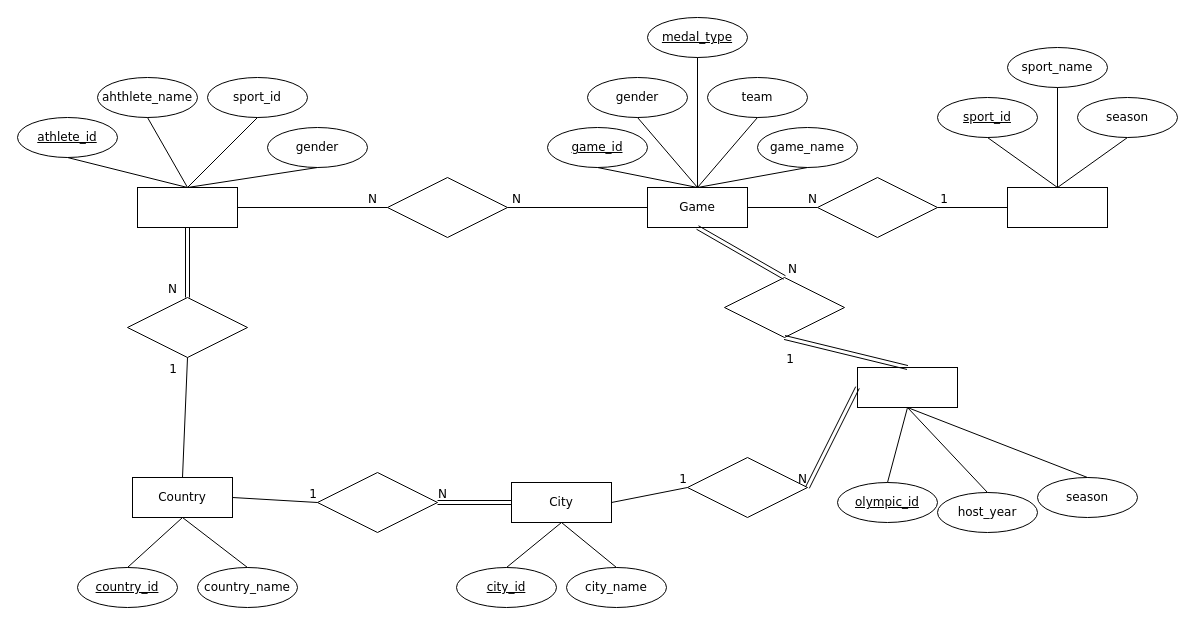
Image size: 1195x625. Some labels were removed from this diagram. Each missing label, with the box of its shape:
Athlete: (136, 186, 238, 228)
Belong: (816, 176, 938, 238)
Contain: (316, 472, 438, 532)
Hold: (724, 276, 844, 338)
Host: (686, 456, 808, 518)
Olympic: (856, 366, 958, 408)
Participate: (386, 176, 508, 238)
Represent: (126, 296, 248, 358)
Sport: (1006, 186, 1108, 228)
